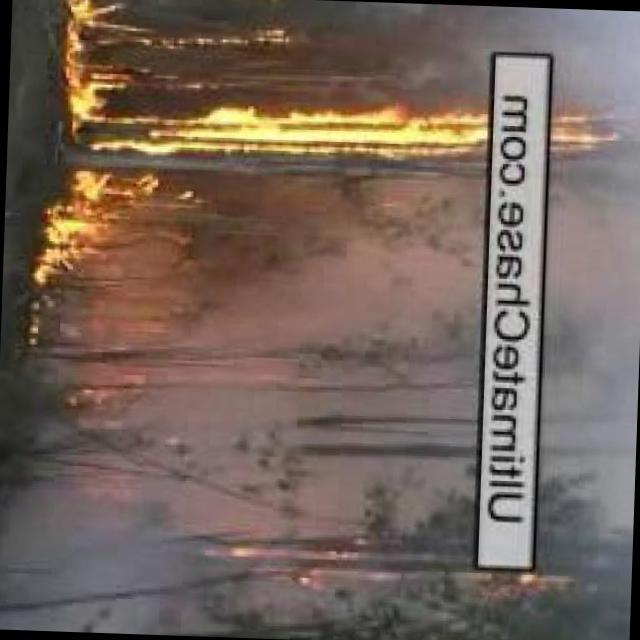Fire: (67, 87, 605, 166), (28, 156, 116, 277), (61, 1, 113, 49)
